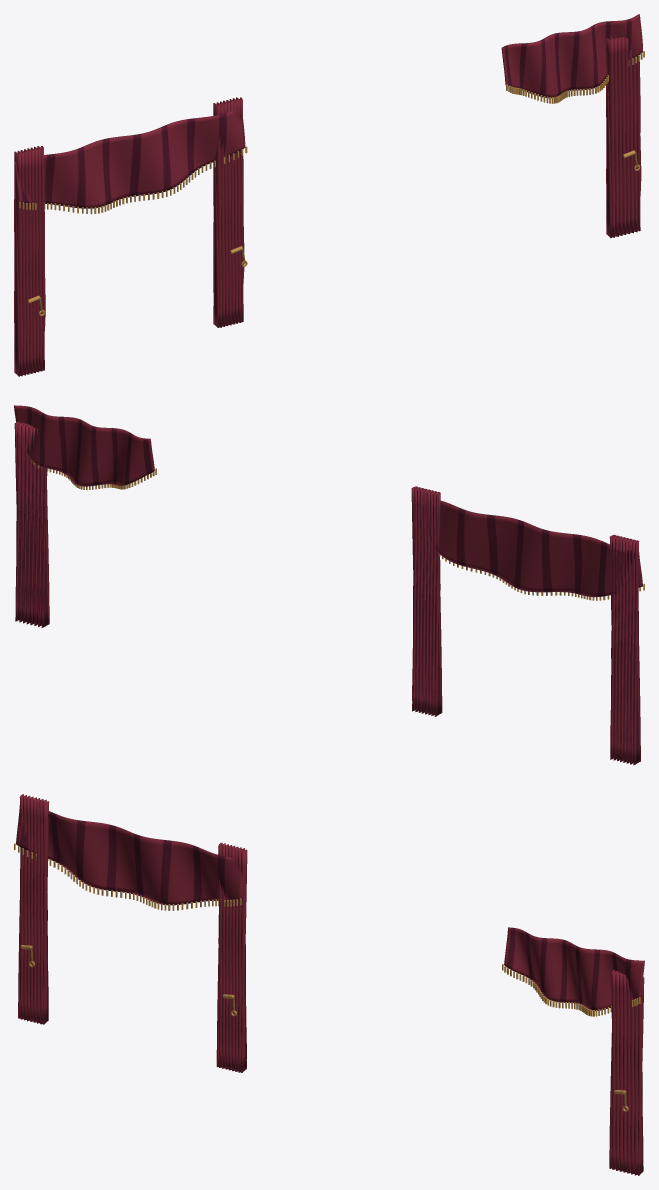
The model's file is SM_RGB_Curtains.fbx.
3 views of the same model, one above another, from view 1: azimuth 30°, elevation 25°; view 2: azimuth 150°, elevation 25°; view 3: azimuth 330°, elevation 25° (orthographic).
Visible parts, largest first — view 1: SM_RGB_Curtains; view 2: SM_RGB_Curtains; view 3: SM_RGB_Curtains.
Part boxes in pixels (x1,y1,x2,y2): SM_RGB_Curtains: (14,14,644,376); SM_RGB_Curtains: (14,405,644,765); SM_RGB_Curtains: (14,794,644,1175).
Size of the model in its own units: 1312 by 43.28 by 456.
